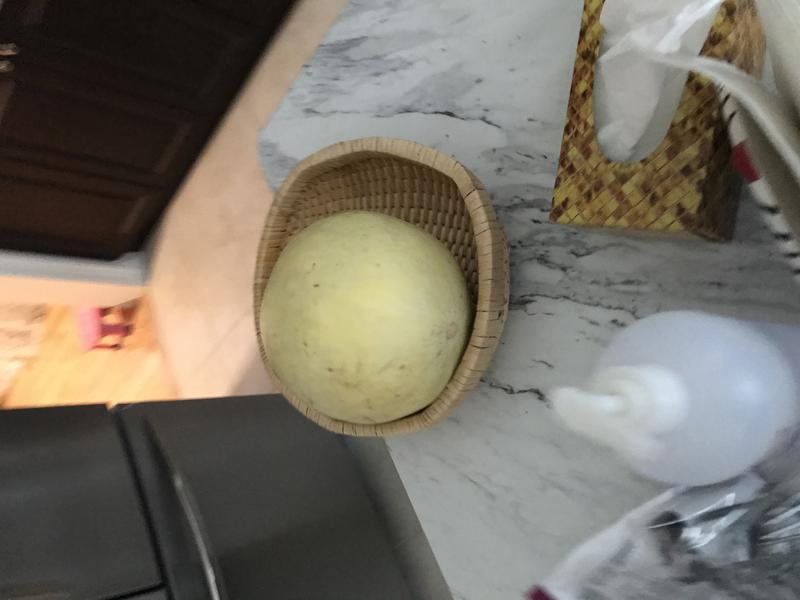honeydew: (250, 200, 480, 444)
